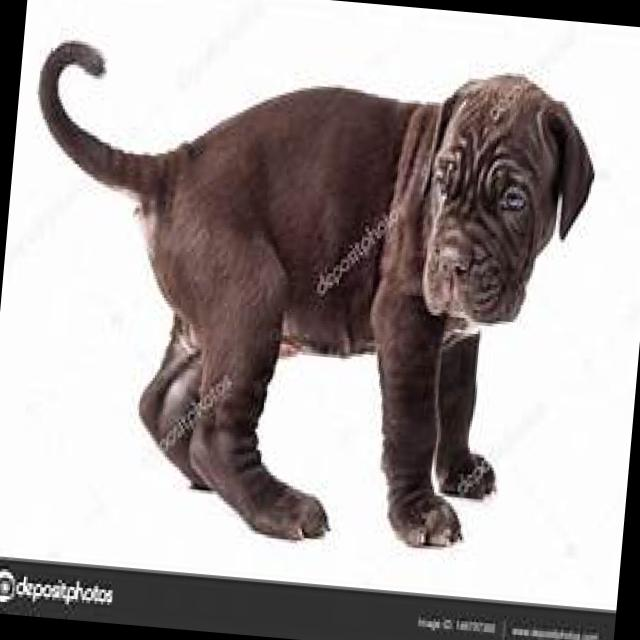animal: (1, 39, 601, 568)
